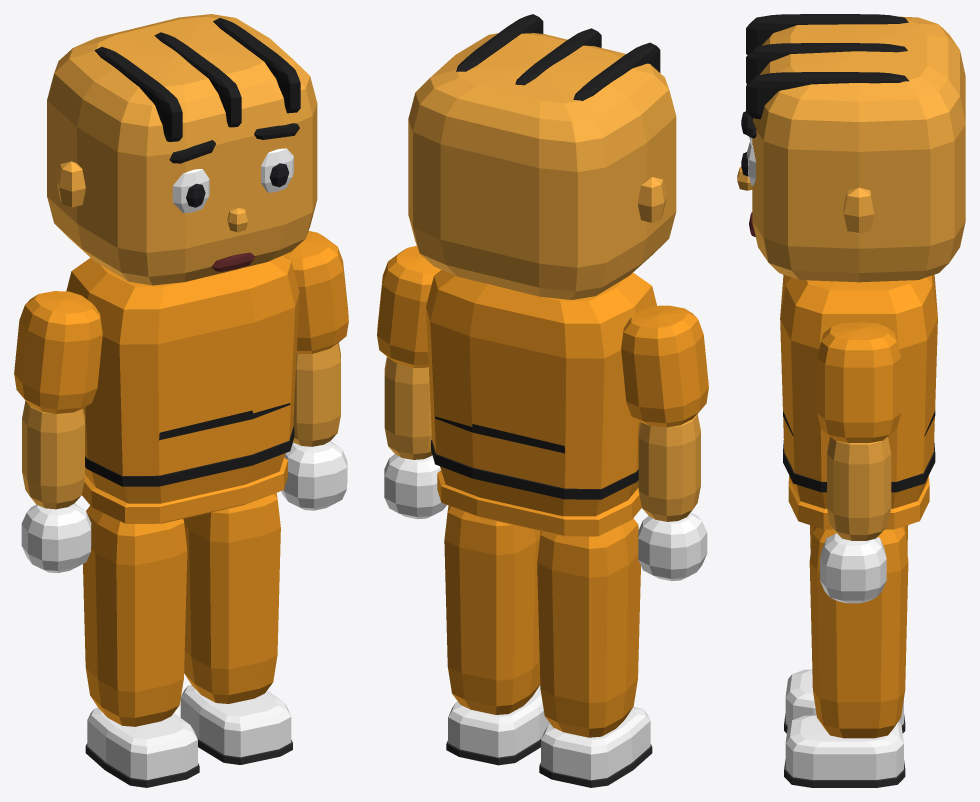
Rendered from hero-d.glb.
3 renders of one model, left to right at view 1: azimuth 30°, elevation 25°; view 2: azimuth 150°, elevation 25°; view 3: azimuth 270°, elevation 25°, orthographic.
Visible parts, largest first — view 1: head, torso, leg-right, leg-left, arm-right, arm-left; view 2: head, torso, leg-right, leg-left, arm-right, arm-left; view 3: head, torso, leg-left, arm-left, leg-right.
Boxes of the visible parts, <box> form: head: <box>47,14,317,285</box>; torso: <box>66,255,299,523</box>; leg-right: <box>83,505,199,787</box>; leg-left: <box>180,493,292,764</box>; arm-right: <box>14,291,102,572</box>; arm-left: <box>281,231,348,510</box>; head: <box>408,14,676,299</box>; torso: <box>426,270,656,536</box>; leg-right: <box>537,518,652,787</box>; leg-left: <box>444,506,550,765</box>; arm-right: <box>621,305,708,580</box>; arm-left: <box>377,246,446,519</box>; head: <box>737,14,965,282</box>; torso: <box>780,274,937,529</box>; leg-left: <box>784,526,908,787</box>; arm-left: <box>817,322,900,603</box>; leg-right: <box>784,525,908,733</box>.
Bounding box in the file's own units: 1.29 × 2.71 × 0.7985.
